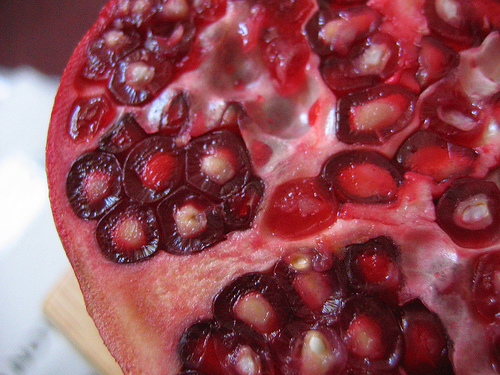pomogranate: (45, 0, 499, 374), (182, 127, 251, 200)
